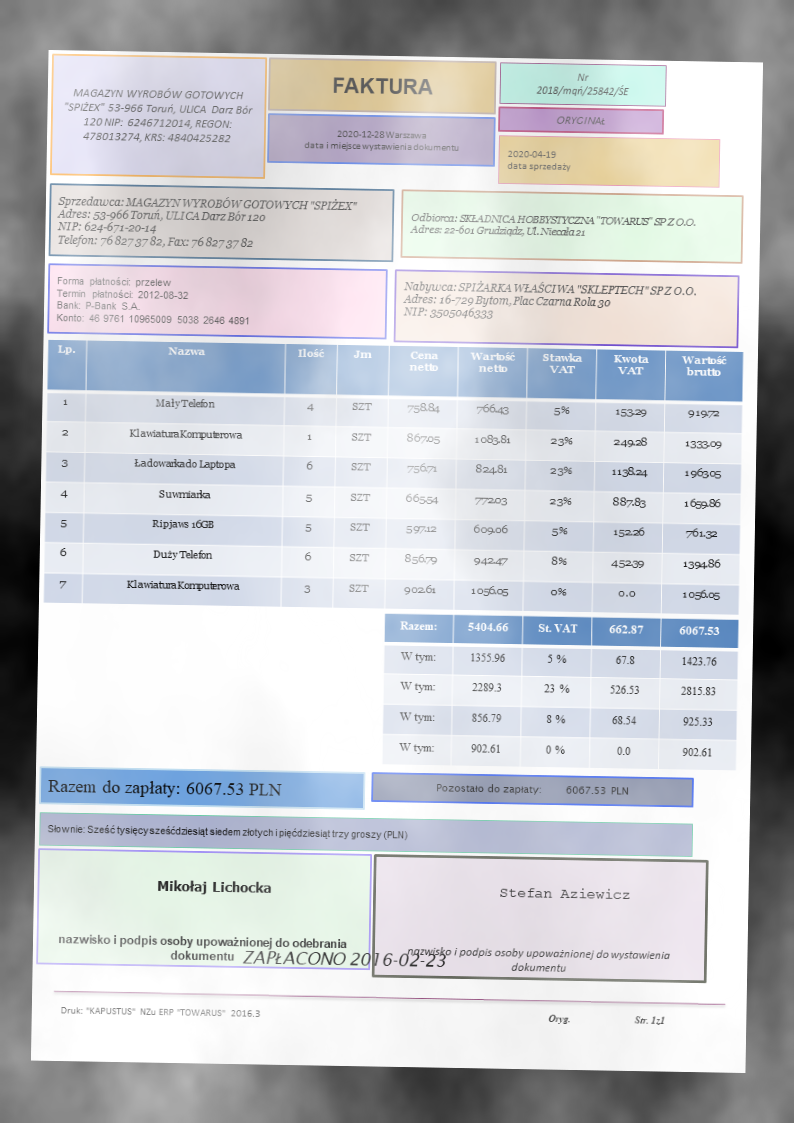Table: (42, 337, 745, 617), (380, 612, 739, 772)
TextBox: (55, 190, 360, 255), (401, 276, 700, 326), (61, 84, 255, 147), (54, 272, 253, 328), (407, 208, 697, 241), (54, 933, 346, 965), (406, 942, 672, 976), (46, 820, 409, 843), (45, 775, 284, 802), (242, 946, 451, 974), (301, 126, 462, 156), (57, 1001, 262, 1021), (433, 780, 631, 799), (534, 70, 630, 101), (154, 874, 274, 897), (497, 884, 633, 904), (330, 75, 436, 98), (504, 145, 573, 178), (546, 1010, 668, 1027), (554, 112, 607, 129)
